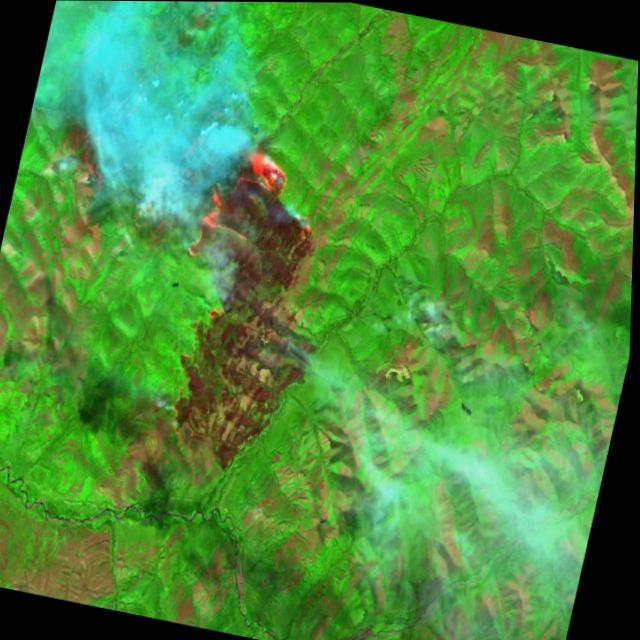fire: (143, 135, 334, 462)
